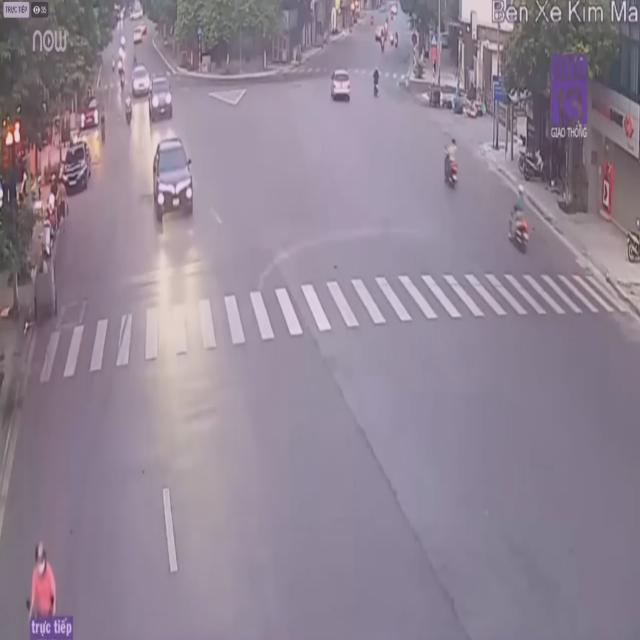car: (152, 134, 199, 215), (60, 139, 91, 196), (329, 65, 353, 107)
motorbike: (21, 541, 79, 638), (508, 193, 532, 254), (444, 136, 461, 192)
